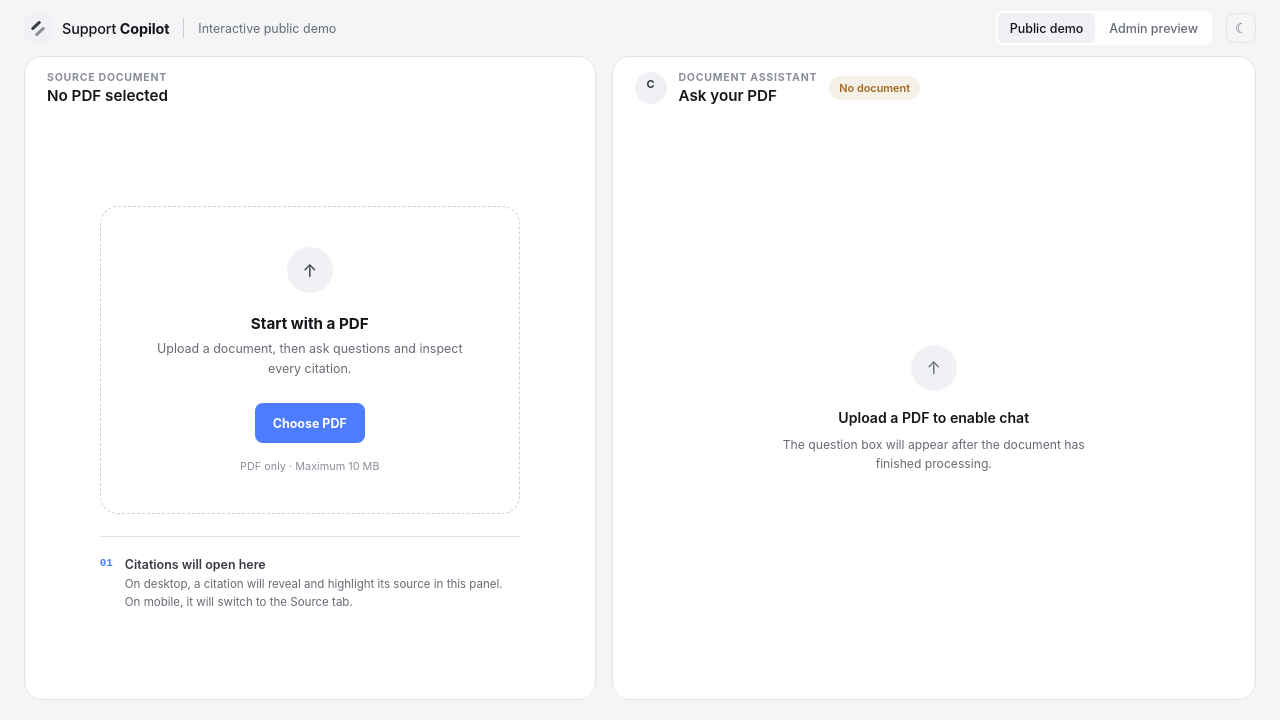
it: App › provides working admin navigation and empty product states
expect the heading "No PDF selected" is shown: met, box [47,86,168,105]
Click the button "Admin preview": (1154, 28) [1097,13,1210,43]
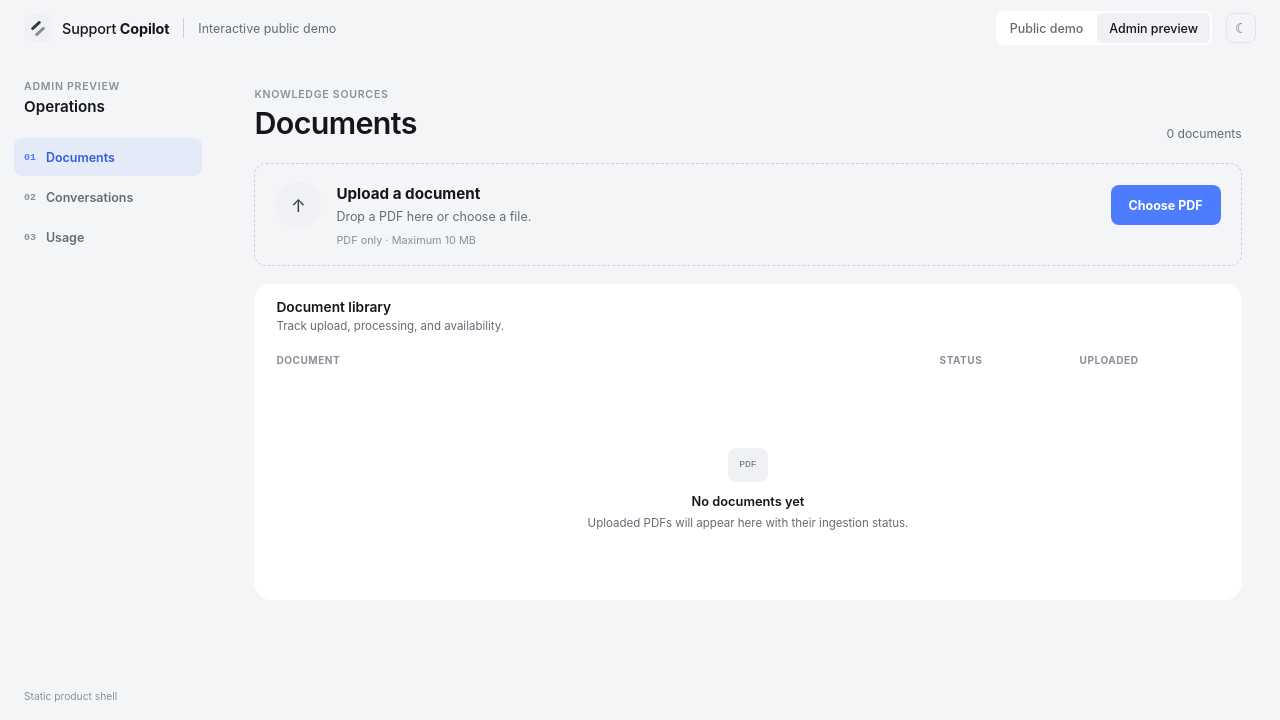
expect the heading "Documents" is shown: met, box [254,105,417,141]
expect the text "No documents yet" is shown: met, box [692,494,804,509]
Click the button "02 Conversations": (108, 197) [14,178,202,216]
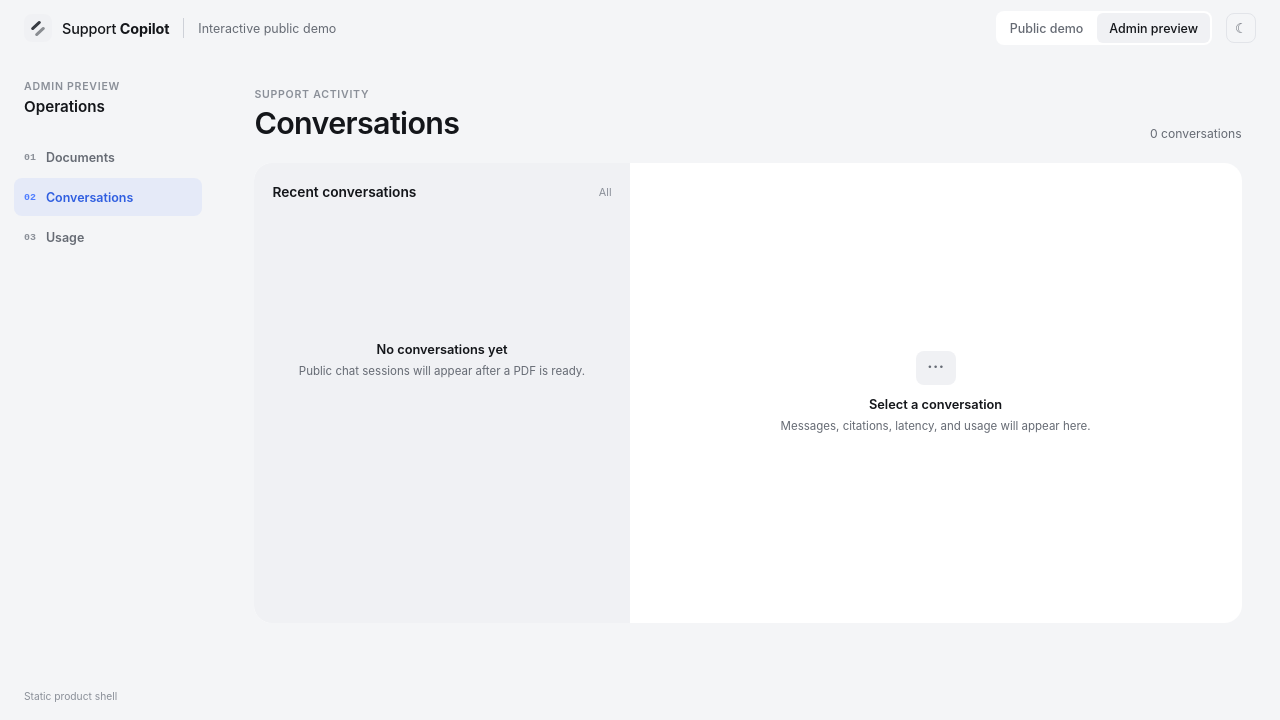
expect the text "No conversations yet" is shown: met, box [376,342,508,357]
Click the button "03 Usage": (108, 237) [14,218,202,256]
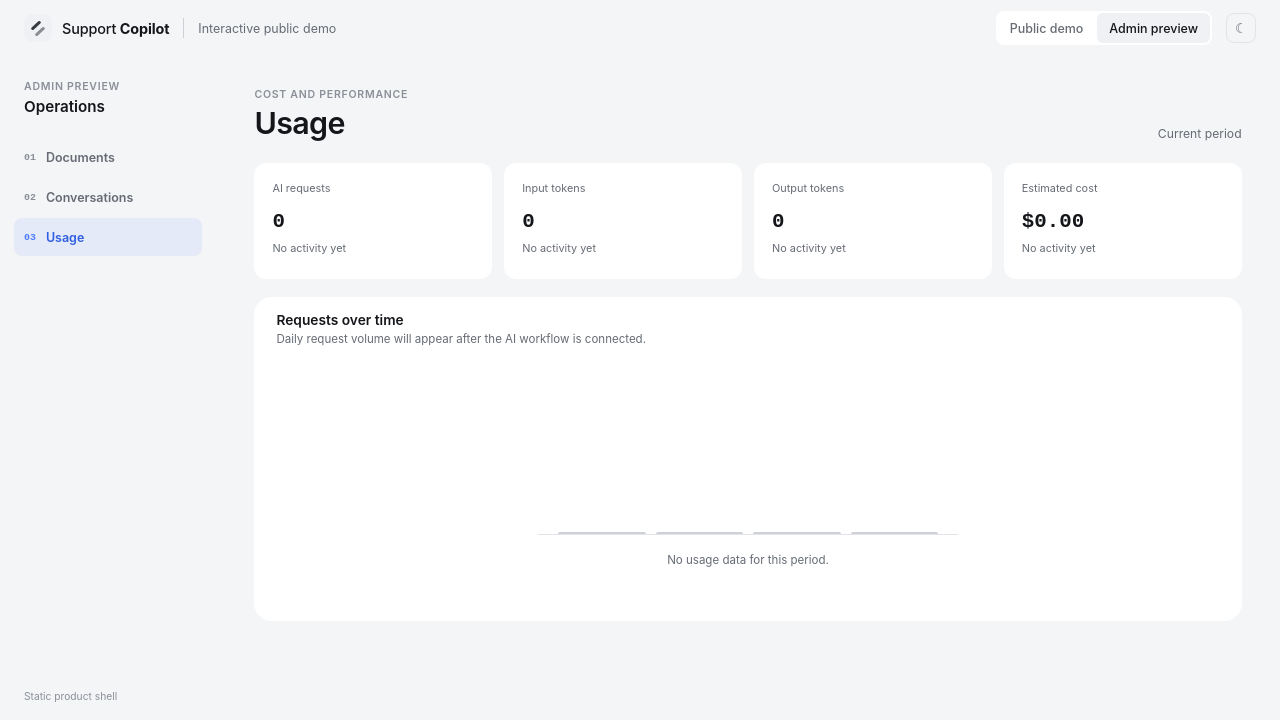
expect the text "Estimated cost" is shown: met, box [1022,181,1098,195]
expect the text "$0.00" is shown: met, box [1022,210,1084,233]
